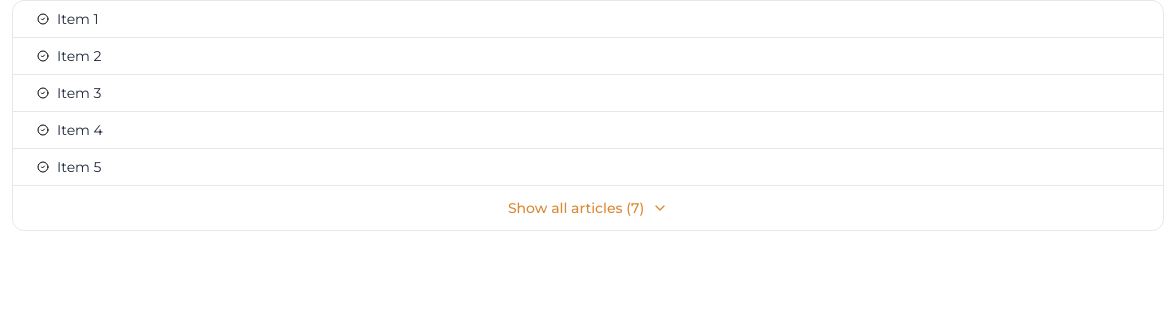
SupportList Component › shows all items after clicking "Show all articles"
Step 1. Click the button "Show all articles (7)" → {"x": 588, "y": 208}, box [13,186,1163,230]
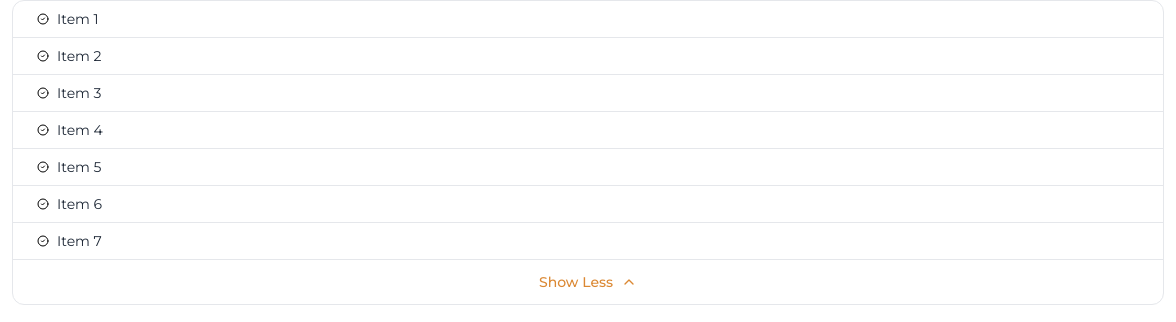
Check: the text "Item 1" is shown, box [57,9,99,29]
Check: the text "Item 6" is shown, box [57,194,102,214]
Check: the text "Item 7" is shown, box [57,231,102,251]
